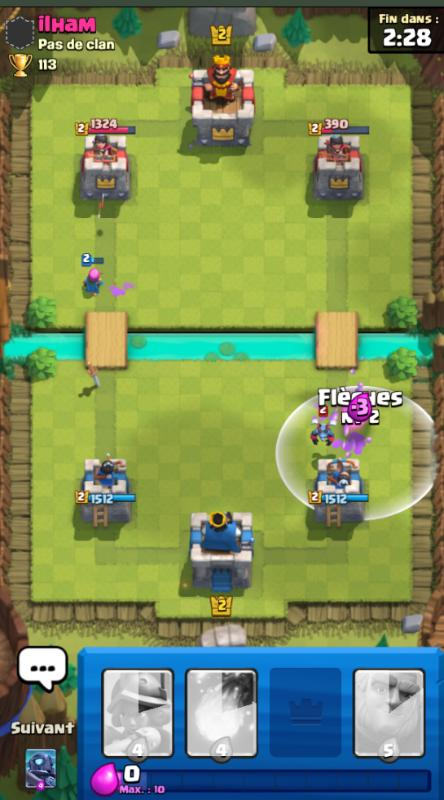archere: (81, 271, 107, 301)
gargouille: (309, 422, 336, 446)
